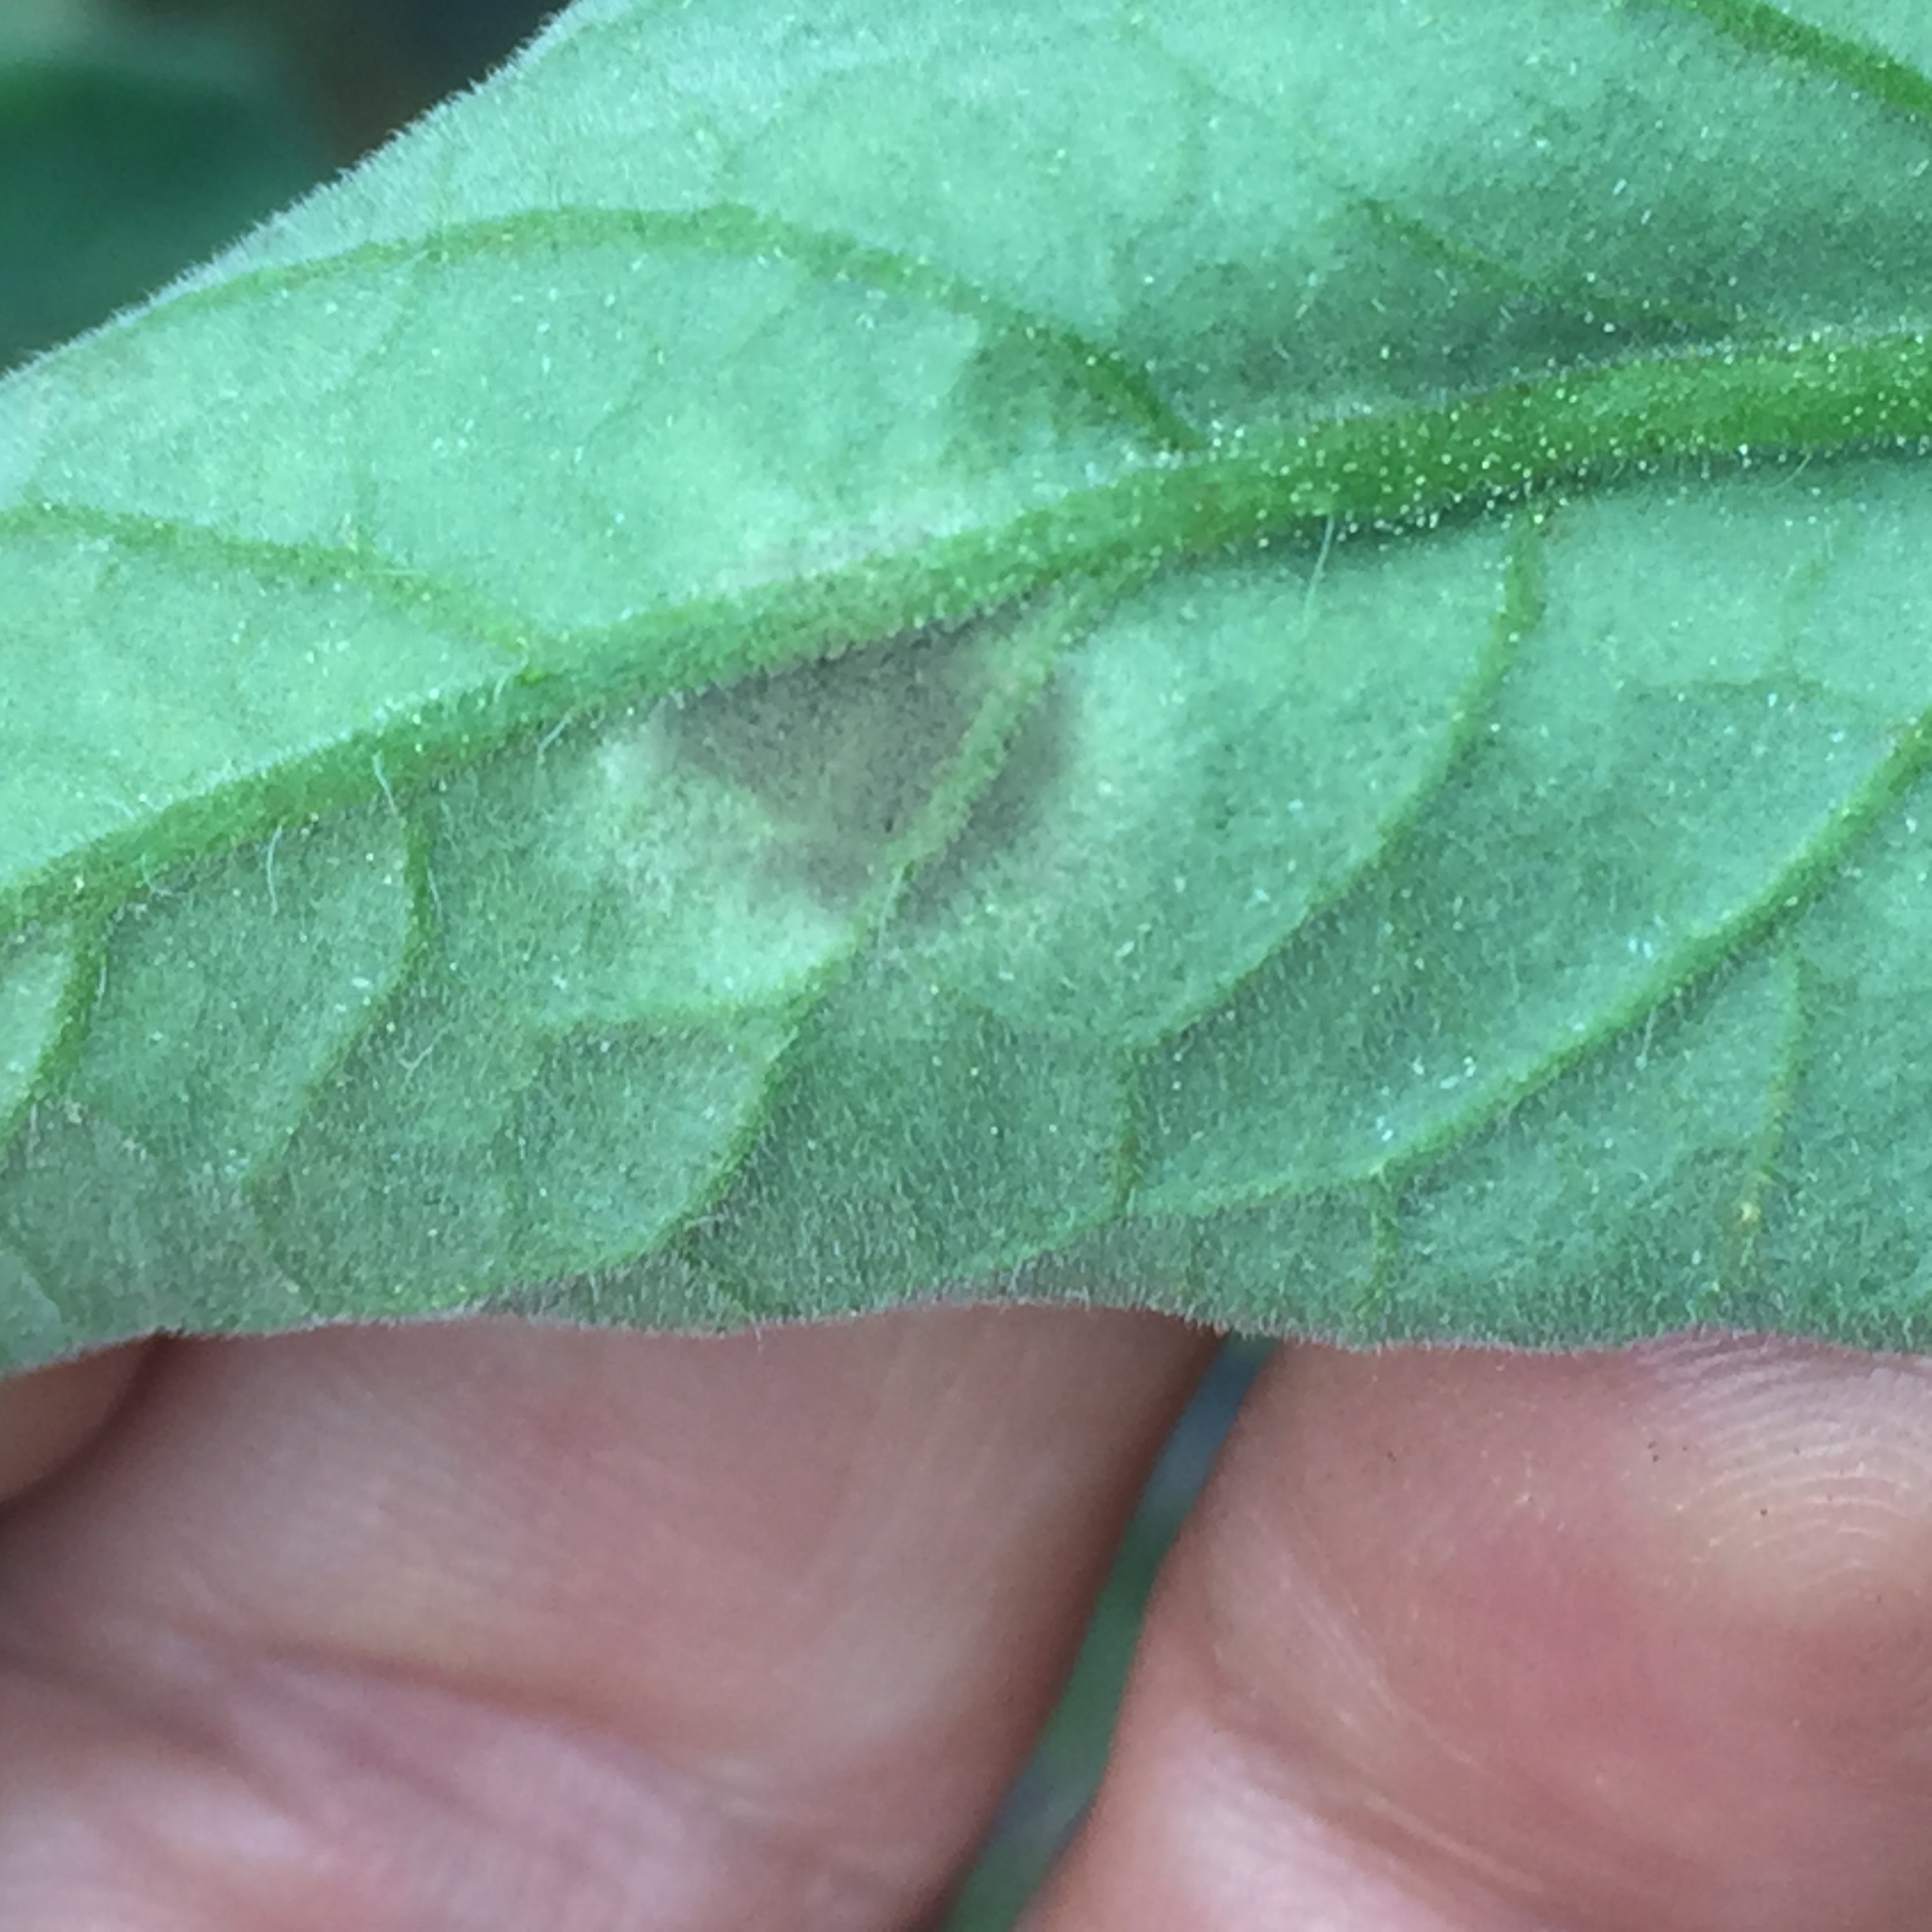negra: (598, 559, 1132, 968)
